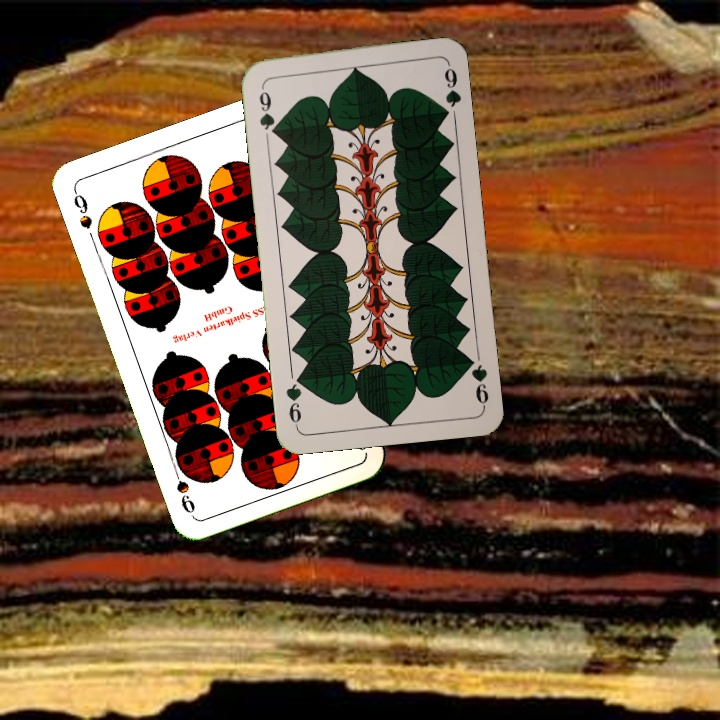G9: (462, 351, 491, 409), (255, 80, 280, 139)
S9: (69, 186, 95, 231)
